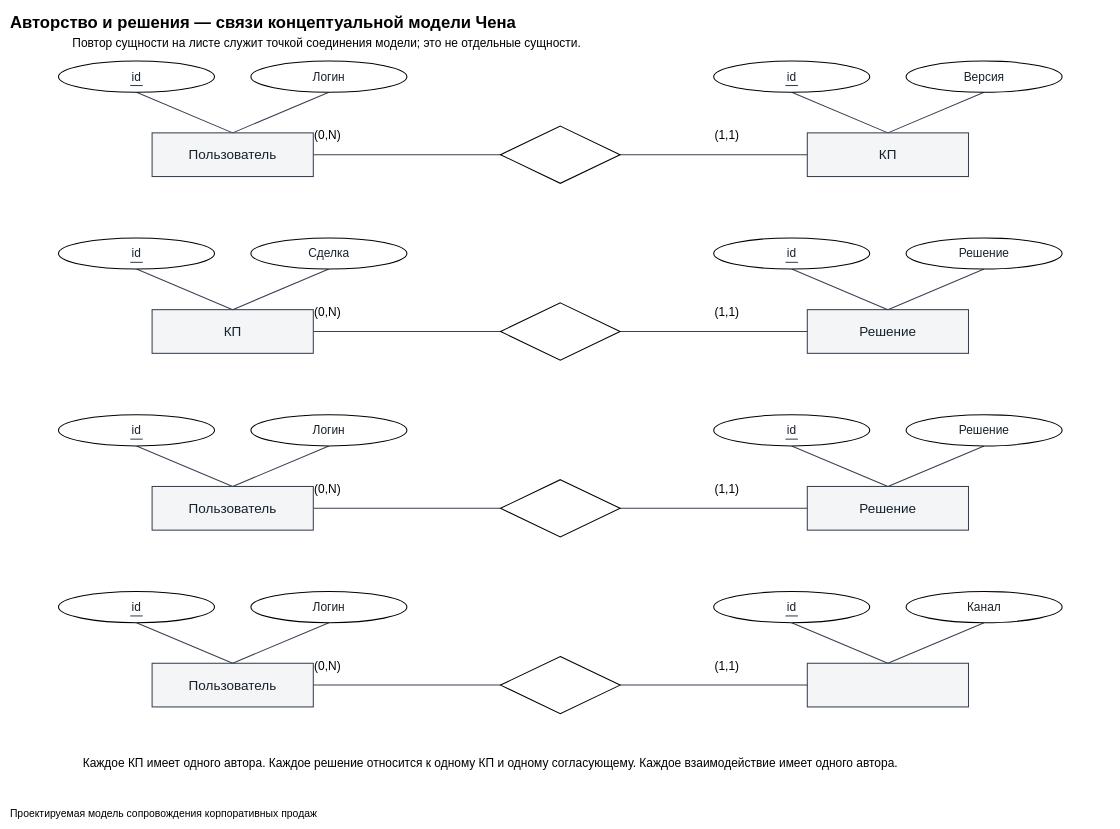
Some shapes in this 1120 by 829 pixel diagram are drawn without their labels. The shapes that lost their labels are listed below. From the top down, each one's centre as x and y in pixels, then its label:
At [560,154]: "создаёт".
At [560,331]: "получает".
At [560,508]: "согласует".
At [560,685]: "фиксирует".
At [888,684]: "Контакт по сделке".
